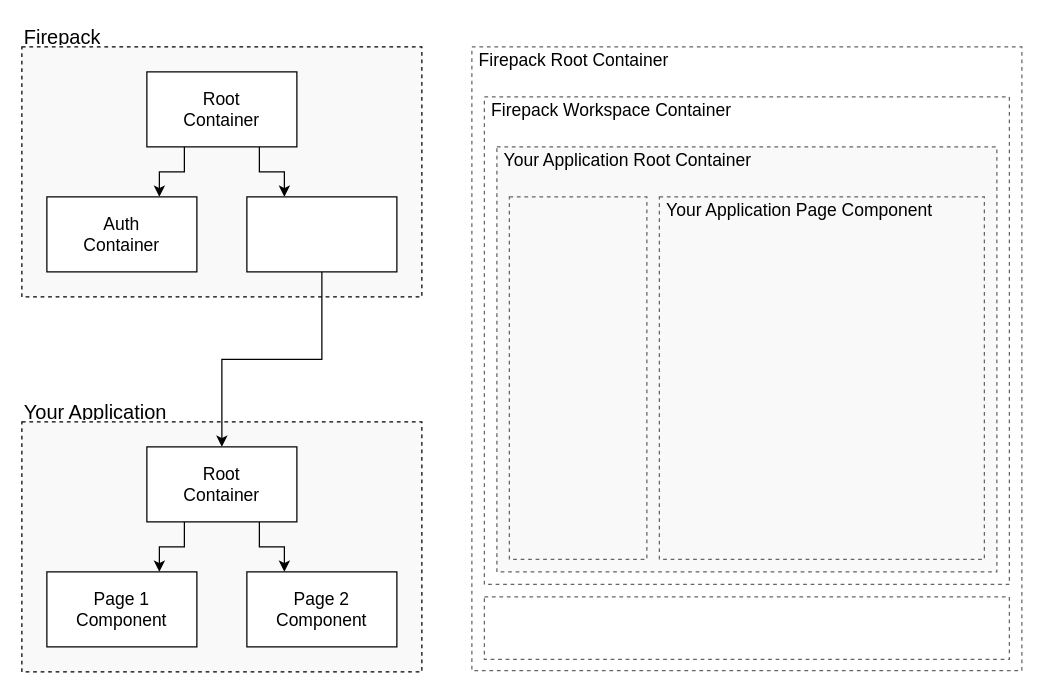
Image size: 1044x694. Some labels were removed from this diagram. The shapes that lost their labels are listed below. From the top down, each one's centre as x and y in pixels, then its label:
the point at 321,234: Workspace Container
the point at 577,377: Sidebar
the point at 746,627: Redux Devtools
